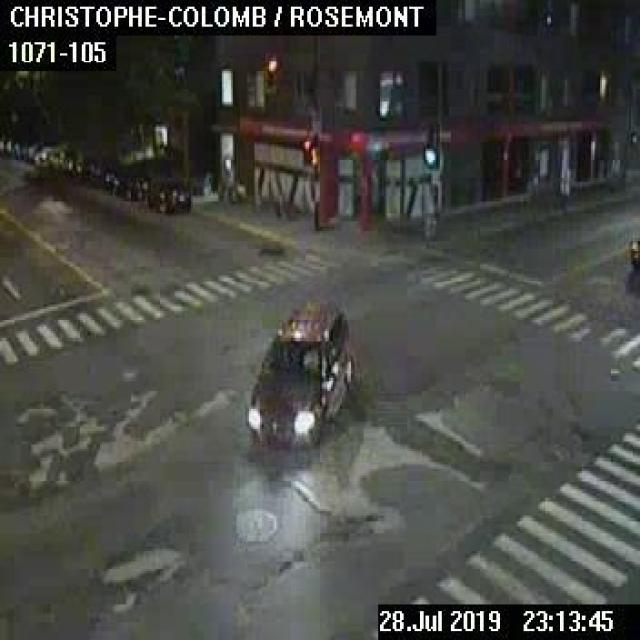vehicle: (245, 302, 353, 444), (146, 180, 189, 210), (114, 174, 146, 198), (628, 236, 638, 271)
